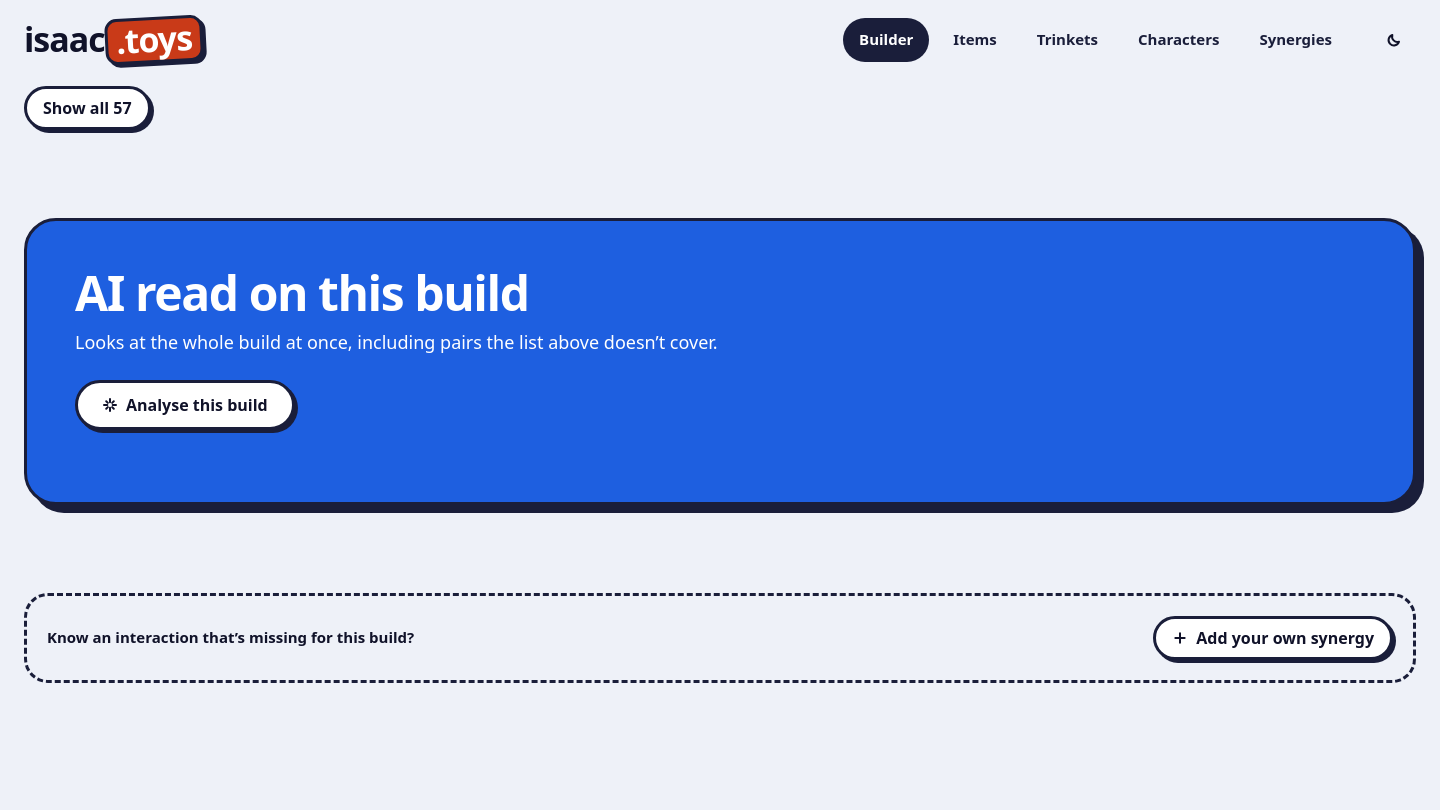
it: AI analysis › treats an answer in a shape it can't show as no answer
(page scrolled)
Click the button "Analyse this build" at (185, 405), box [75,380,295,430]
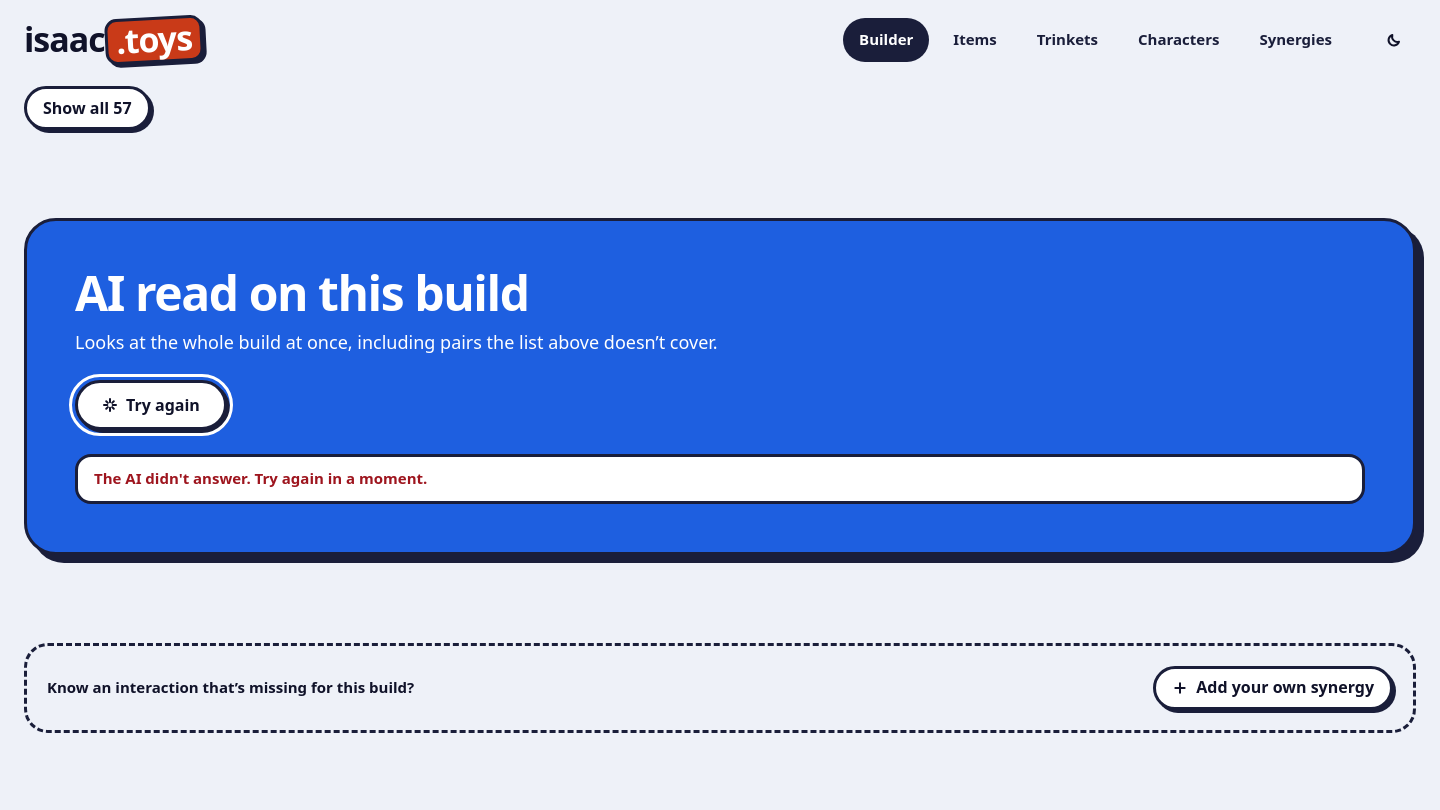
Expected: the text "The AI didn't answer. Try again in a moment." is shown, [75,454,1365,504]
